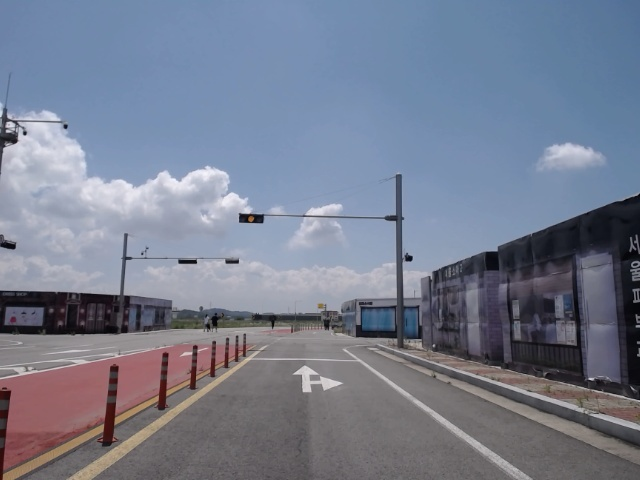orange_3: (240, 213, 266, 224)
